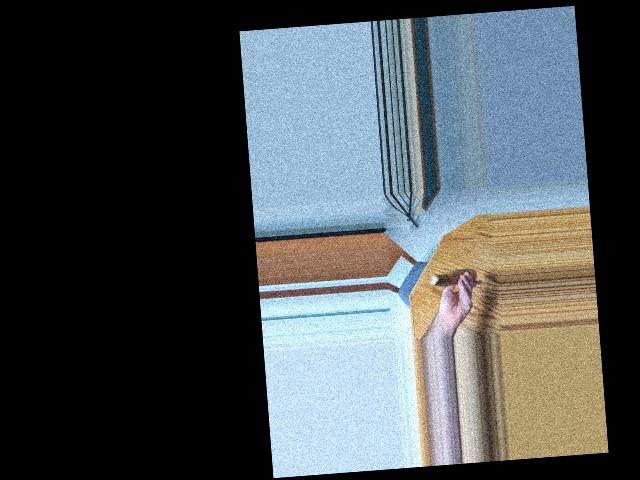sweet_potato: (432, 265, 473, 290)
